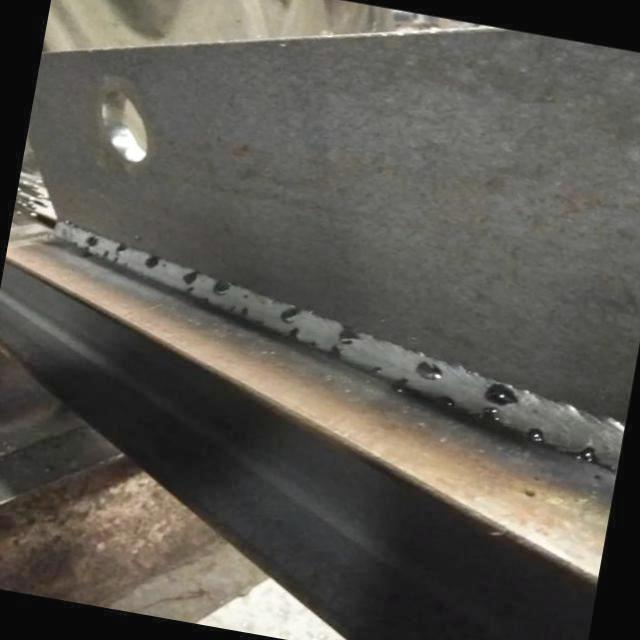defect: (477, 381, 524, 427), (335, 322, 369, 349), (410, 360, 446, 383), (101, 241, 130, 267), (524, 424, 552, 445), (141, 252, 171, 270), (181, 269, 202, 294), (277, 304, 302, 324), (209, 280, 234, 295), (389, 377, 409, 395), (287, 326, 304, 343), (84, 234, 101, 251), (439, 395, 456, 411), (227, 304, 250, 315), (328, 343, 344, 358), (369, 364, 384, 374), (308, 338, 317, 348), (242, 292, 252, 301)
